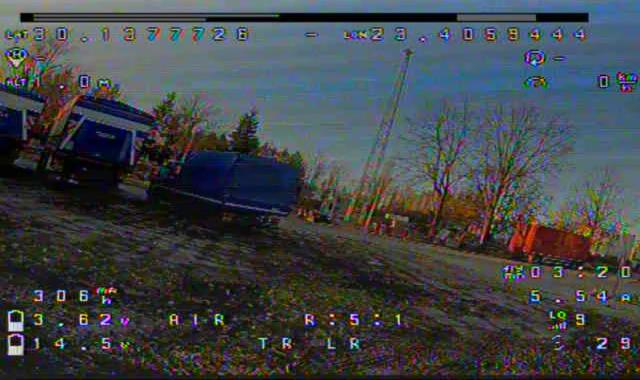car: (143, 143, 317, 236)
truck: (27, 76, 173, 215), (5, 75, 58, 189)
